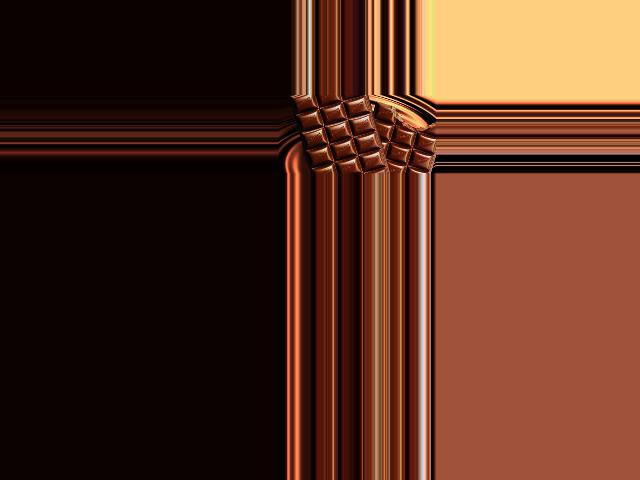chocolate: (287, 96, 390, 174)
